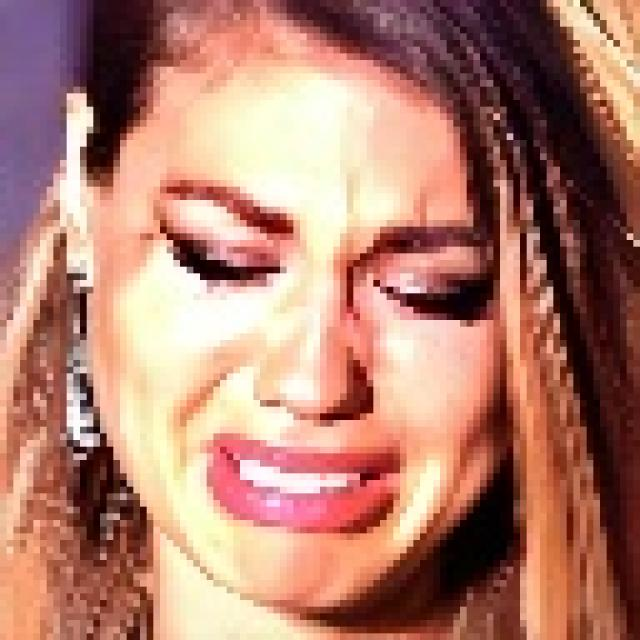sad: (88, 10, 568, 619)
